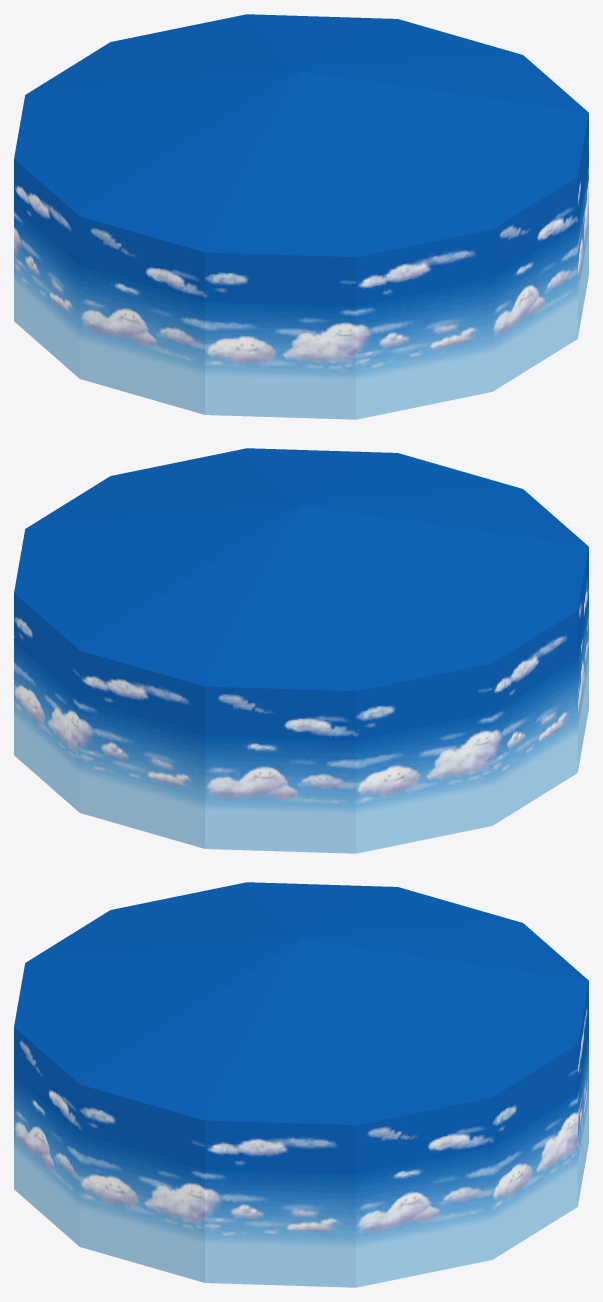
File: mini_dokan_gc_V.glb
3 renders of one model, top to bottom at view 1: azimuth 30°, elevation 25°; view 2: azimuth 150°, elevation 25°; view 3: azimuth 270°, elevation 25°, orthographic.
Visible parts, largest first — view 1: mini_dokan_gc_V; view 2: mini_dokan_gc_V; view 3: mini_dokan_gc_V.
Boxes of the visible parts, x1,y1,x2,y2 form: mini_dokan_gc_V: (14,14,588,419); mini_dokan_gc_V: (14,448,588,853); mini_dokan_gc_V: (14,882,588,1287).
Size of the model in its own units: 307 by 174 by 307.
Materials: 1 (1 with a texture image).
